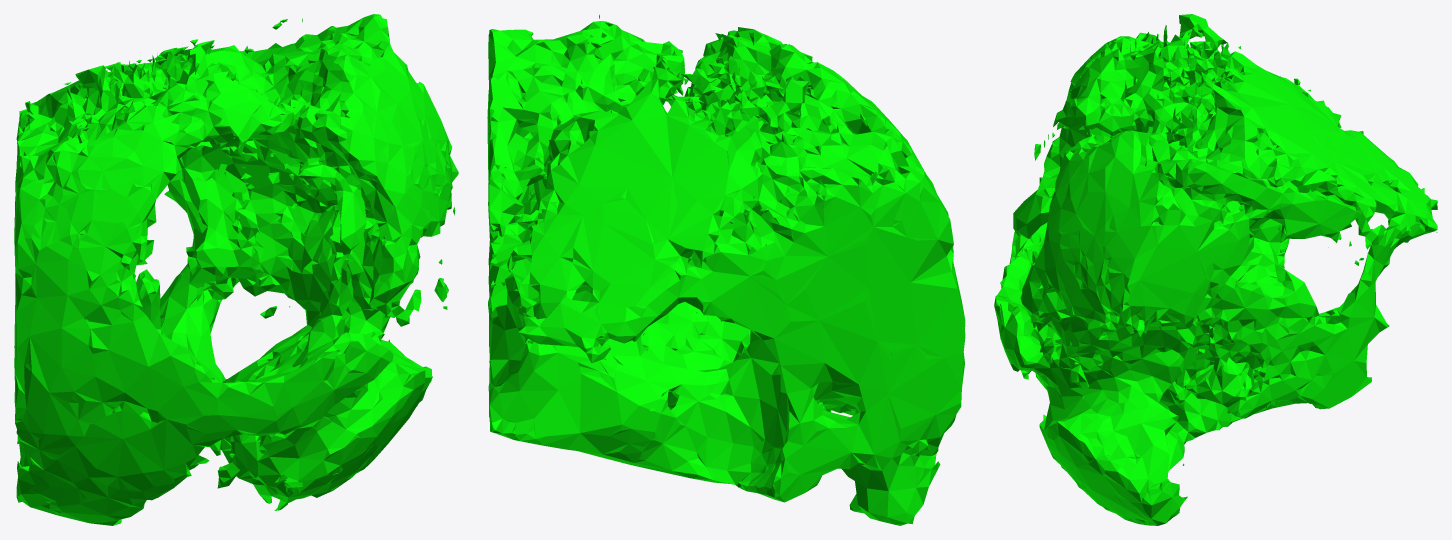
The model's file is B939XXXX-1_base_7.obj.
3 renders of one model, left to right at view 1: azimuth 30°, elevation 25°; view 2: azimuth 150°, elevation 25°; view 3: azimuth 270°, elevation 25°, orthographic. The views are drawn at different scales.
Parts seen in each view (by area): view 1: 7_base; view 2: 7_base; view 3: 7_base.
Boxes of the visible parts, x1=… form: 7_base: x1=14, y1=14, x2=458, y2=525; 7_base: x1=487, y1=14, x2=965, y2=525; 7_base: x1=994, y1=14, x2=1437, y2=525.
Bounding box in the file's own units: 218 × 212 × 203.
